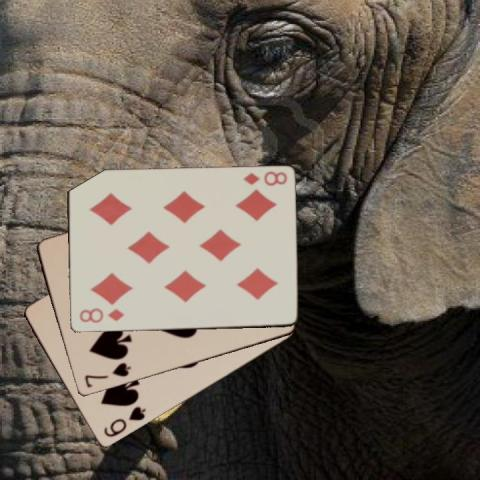6s: (101, 404, 147, 440)
7s: (81, 360, 133, 389)
8d: (76, 306, 125, 326), (239, 169, 288, 187)
